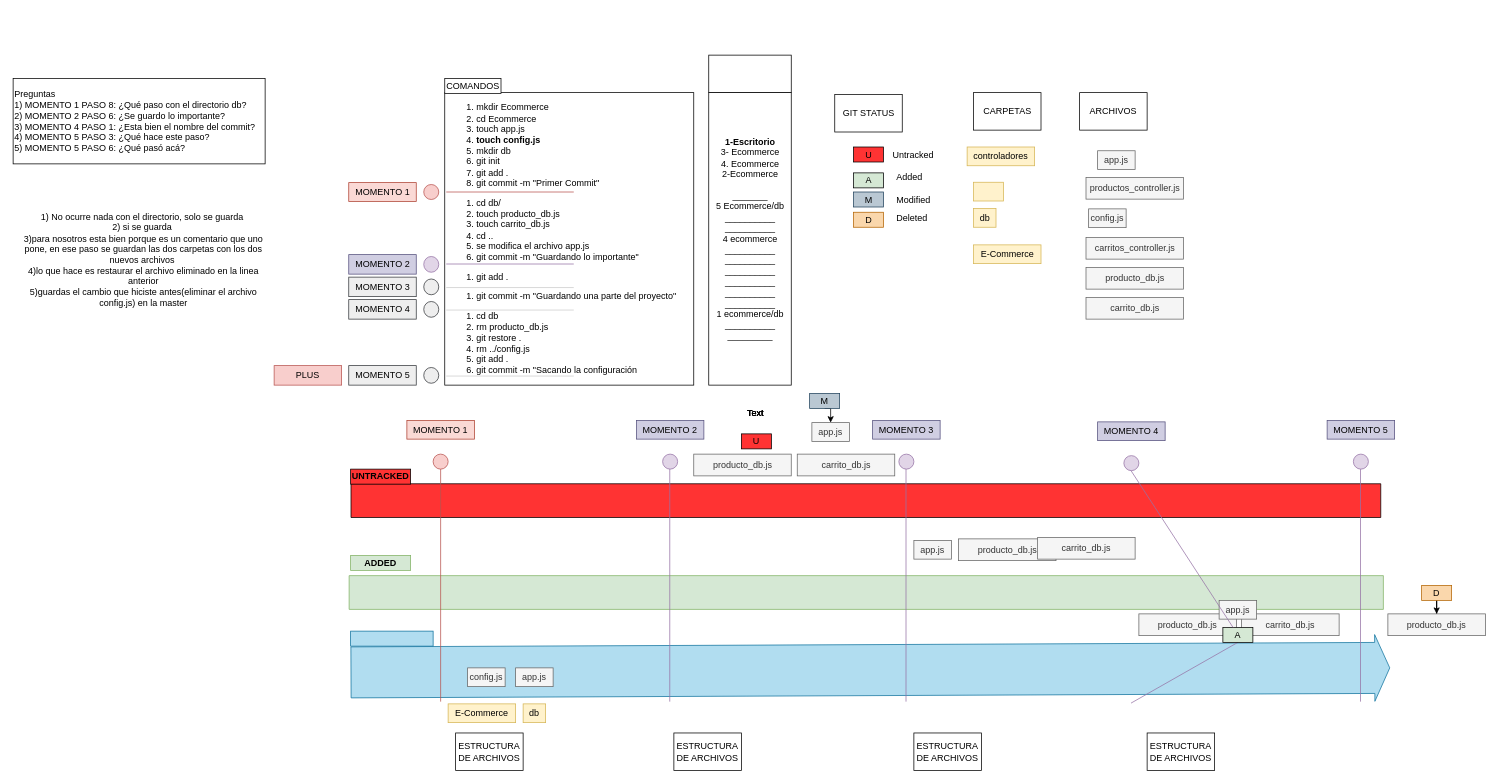
Image size: 1499x784. Some labels were removed from this diagram. Each missing label, with the centre of its shape:
"DONDE ESTA PARADA LA TERMINAL" belongs at point 749,73.
"RAMA PRINCIPAL" belongs at point 391,638.
"rutas" belongs at point 988,191.
